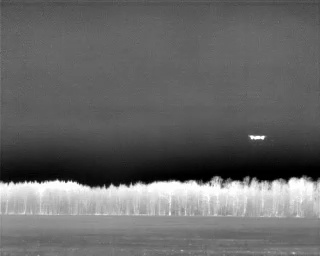DRONE: (244, 129, 270, 147)
